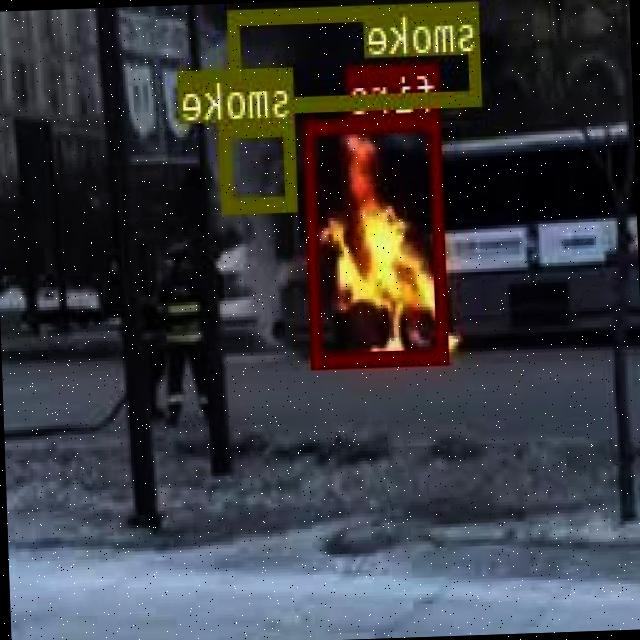fire: (306, 113, 452, 364)
smoke: (231, 0, 483, 111), (221, 117, 298, 209)
